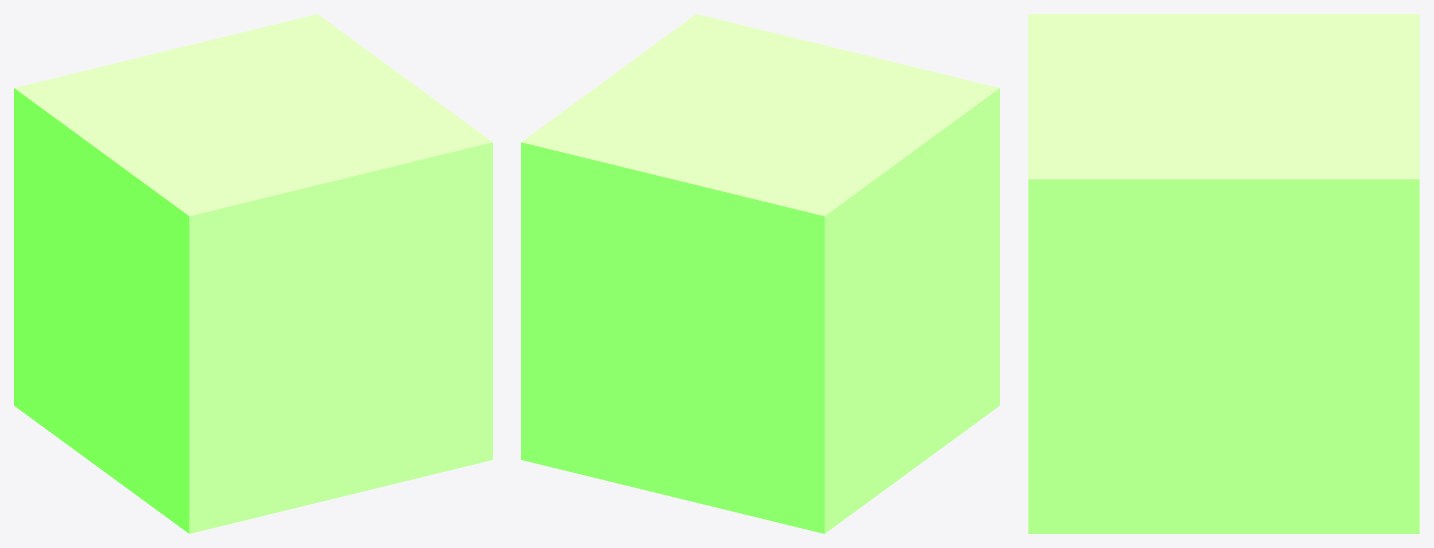
3 views of the same model, side by side, from view 1: azimuth 30°, elevation 25°; view 2: azimuth 150°, elevation 25°; view 3: azimuth 270°, elevation 25° (orthographic). The views are drawn at different scales.
Visible parts, largest first — view 1: Cube.005; view 2: Cube.005; view 3: Cube.005.
Part boxes in pixels (box(x1,y1,x2,y2)): Cube.005: box(14, 14, 492, 533); Cube.005: box(521, 14, 999, 533); Cube.005: box(1028, 14, 1419, 533).
Size of the model in its own units: 10.11 by 10.11 by 10.11.
